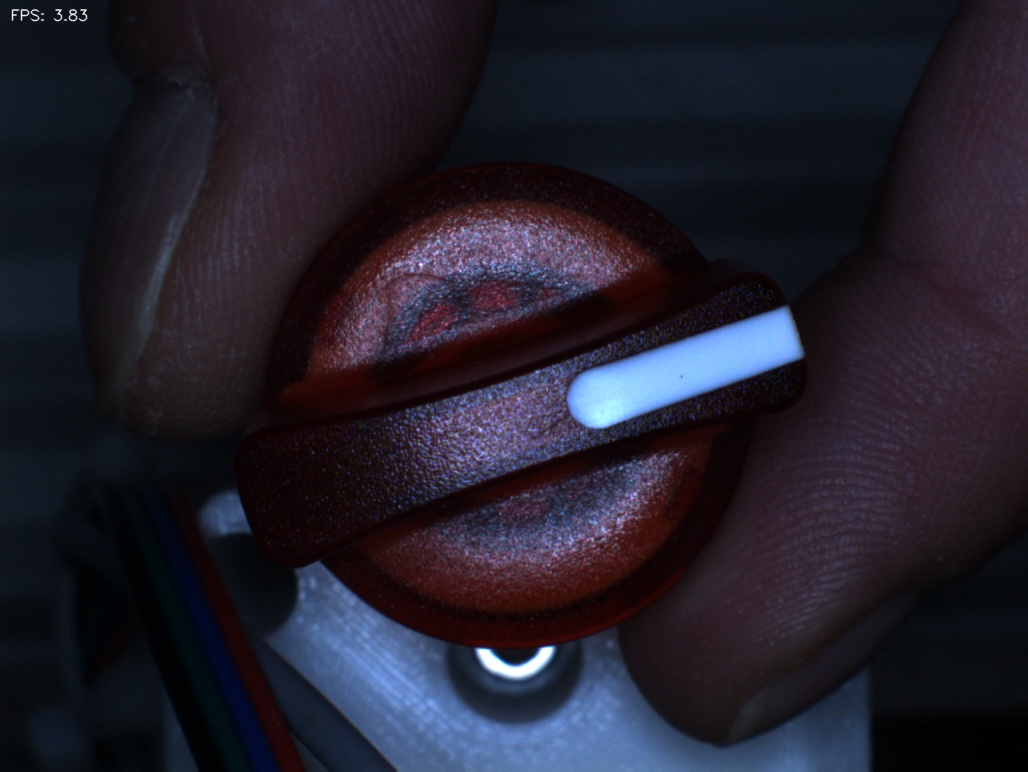PointNoir: (650, 343, 720, 416)
